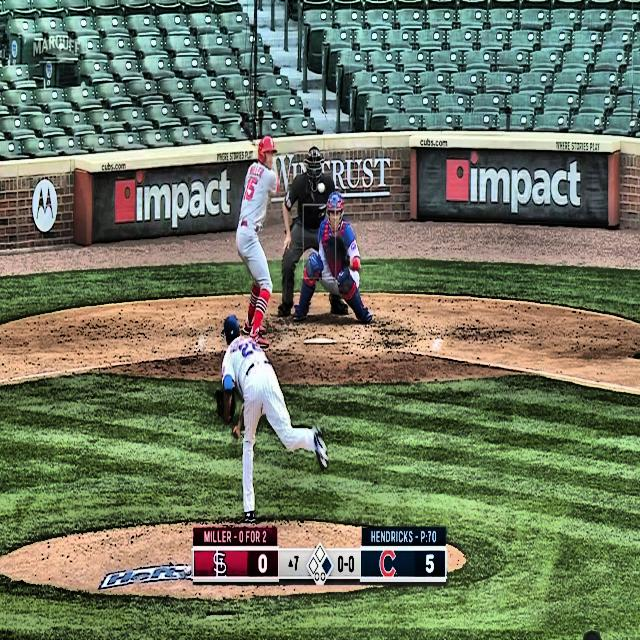baseball: (317, 181, 326, 195)
